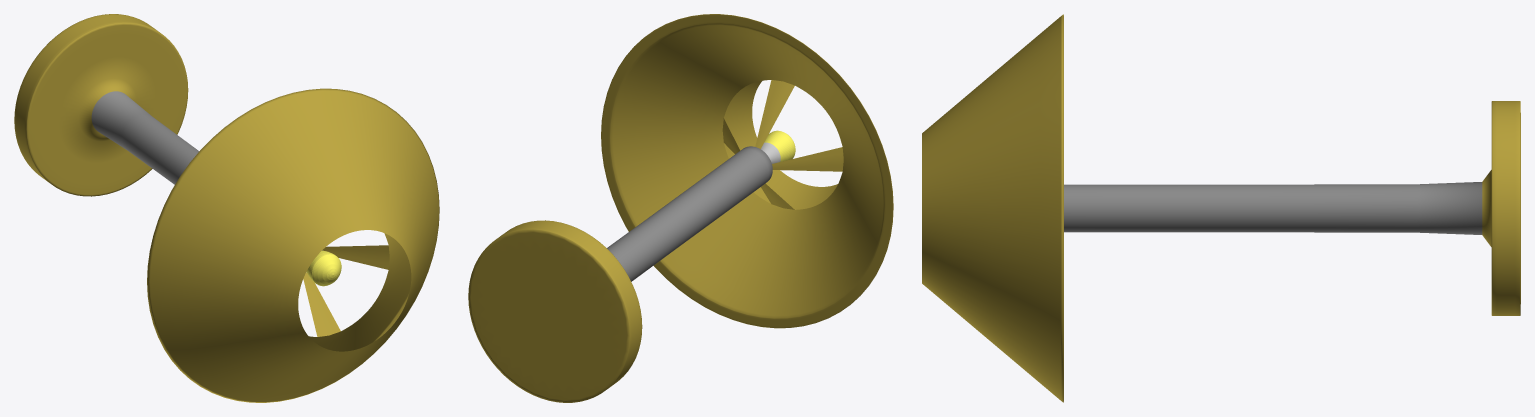
The model's file is lamp.glb.
3 views of the same model, side by side, from view 1: azimuth 30°, elevation 25°; view 2: azimuth 150°, elevation 25°; view 3: azimuth 270°, elevation 25° (orthographic). The views are drawn at different scales.
Parts seen in each view (by area): view 1: Cylinder; view 2: Cylinder; view 3: Cylinder.
Boxes of the visible parts, <box> form: Cylinder: <box>14,14,439,402</box>; Cylinder: <box>468,14,893,402</box>; Cylinder: <box>922,14,1520,402</box>.
Size of the model in its own units: 3.91 by 3.91 by 6.01.
1 material, 1 textured.
